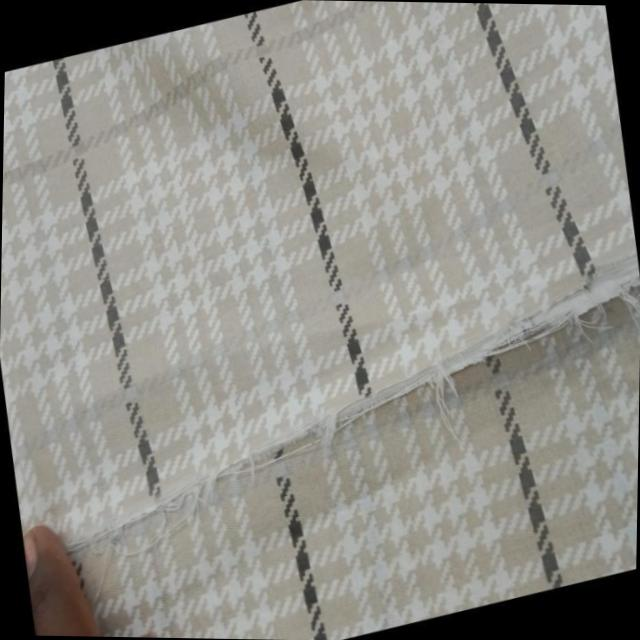cut: (70, 240, 640, 566)
